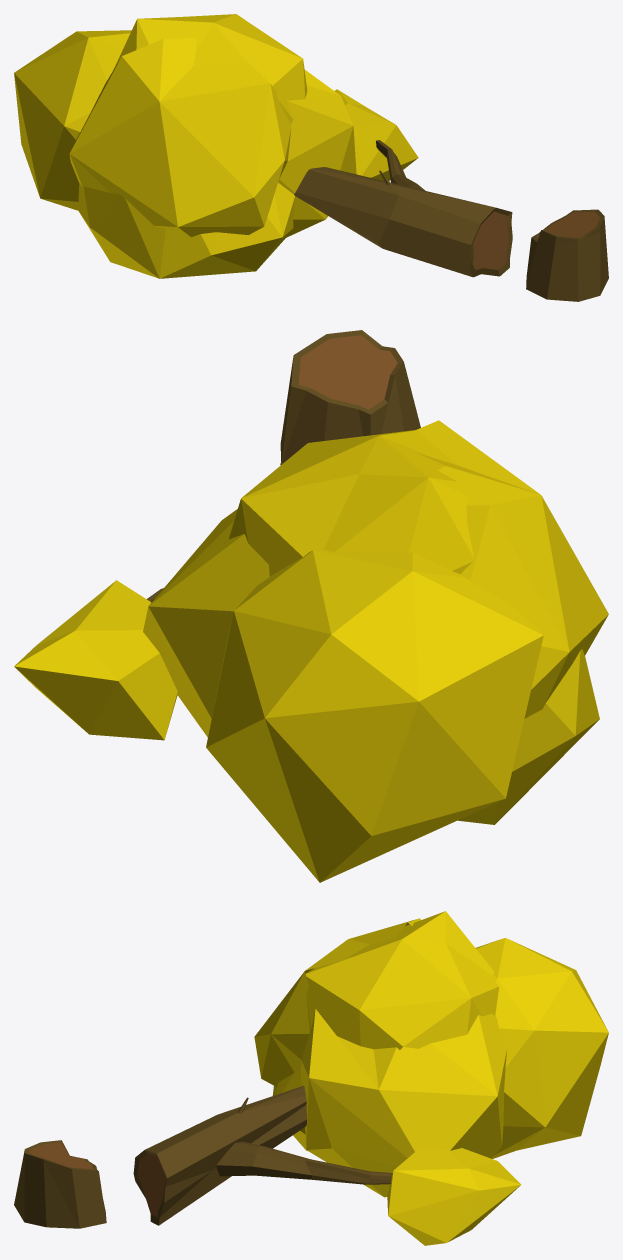
Rendered from Tree#12.001.fbx.
The picture shows the model from 3 angles, top to bottom: view 1: azimuth 30°, elevation 25°; view 2: azimuth 150°, elevation 25°; view 3: azimuth 270°, elevation 25°; orthographic projection. The views are drawn at different scales.
Parts seen in each view (by area): view 1: Tree#12.001; view 2: Tree#12.001; view 3: Tree#12.001.
Part boxes in pixels (bbox=[...]): Tree#12.001: bbox=[14, 14, 608, 301]; Tree#12.001: bbox=[14, 330, 608, 882]; Tree#12.001: bbox=[14, 911, 608, 1245].
Bounding box in the file's own units: 1433 × 867 × 2033.
